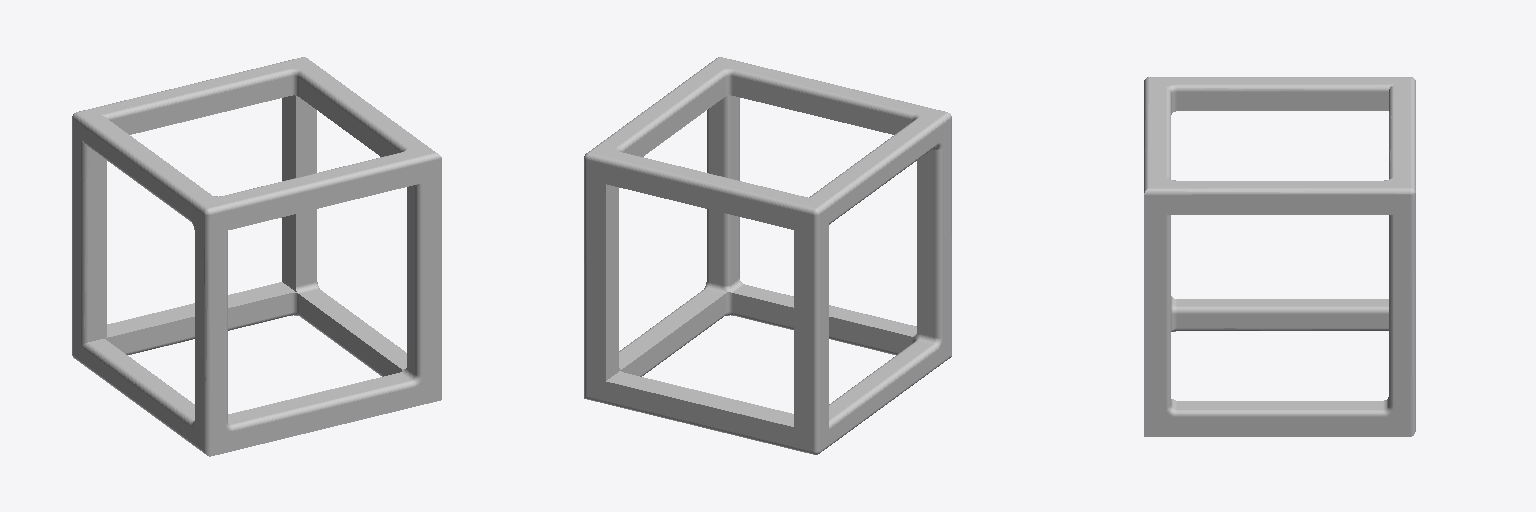
Rendered from haptic_des_box_yellow.obj.
The picture shows the model from 3 angles: view 1: azimuth 30°, elevation 25°; view 2: azimuth 150°, elevation 25°; view 3: azimuth 270°, elevation 25°; orthographic projection.
Bounding box in the file's own units: 50 × 50 × 50.